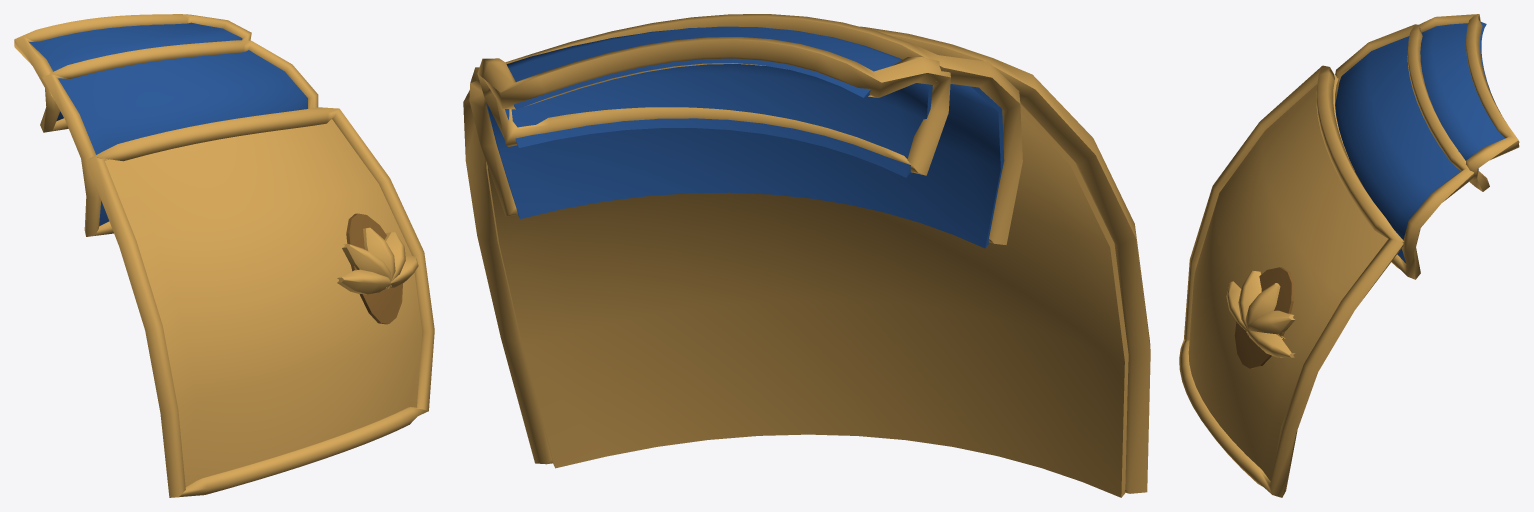
Rendered from shoulder-armour-far.glb.
3 renders of one model, left to right at view 1: azimuth 30°, elevation 25°; view 2: azimuth 150°, elevation 25°; view 3: azimuth 270°, elevation 25°, orthographic. The views are drawn at different scales.
Parts seen in each view (by area): view 1: OriginalLeftShoulderArmour; view 2: OriginalLeftShoulderArmour; view 3: OriginalLeftShoulderArmour.
Part boxes in pixels (x1,y1,x2,y2): OriginalLeftShoulderArmour: (14,14,434,497); OriginalLeftShoulderArmour: (463,14,1150,497); OriginalLeftShoulderArmour: (1179,14,1519,497).
Size of the model in its own units: 0.1059 by 0.1158 by 0.1018.
